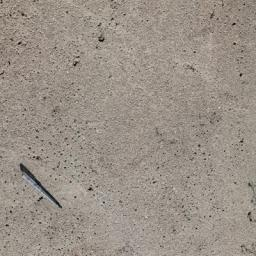FOD: (19, 162, 62, 211)
